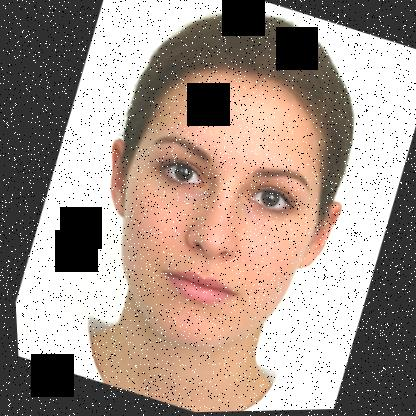Female: (49, 32, 381, 388)
